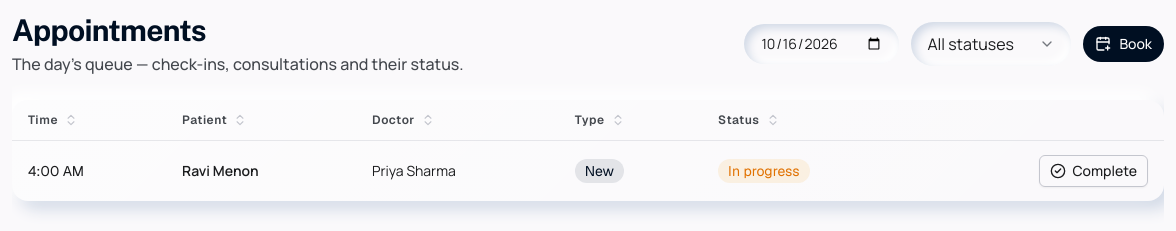
appointment lifecycle actions › Complete posts to /complete and the row moves on
The width and height of the screenshot is (1176, 231).
Click the button "Complete". click: (1094, 171)
box: [1040,155,1148,187]
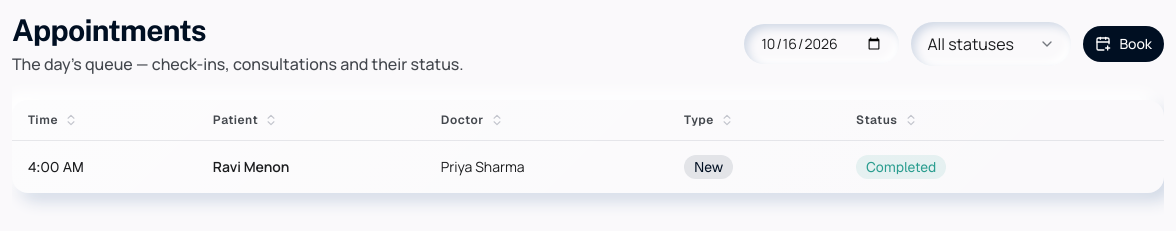
Check: the text "Completed" is shown, box [856,155,946,179]
